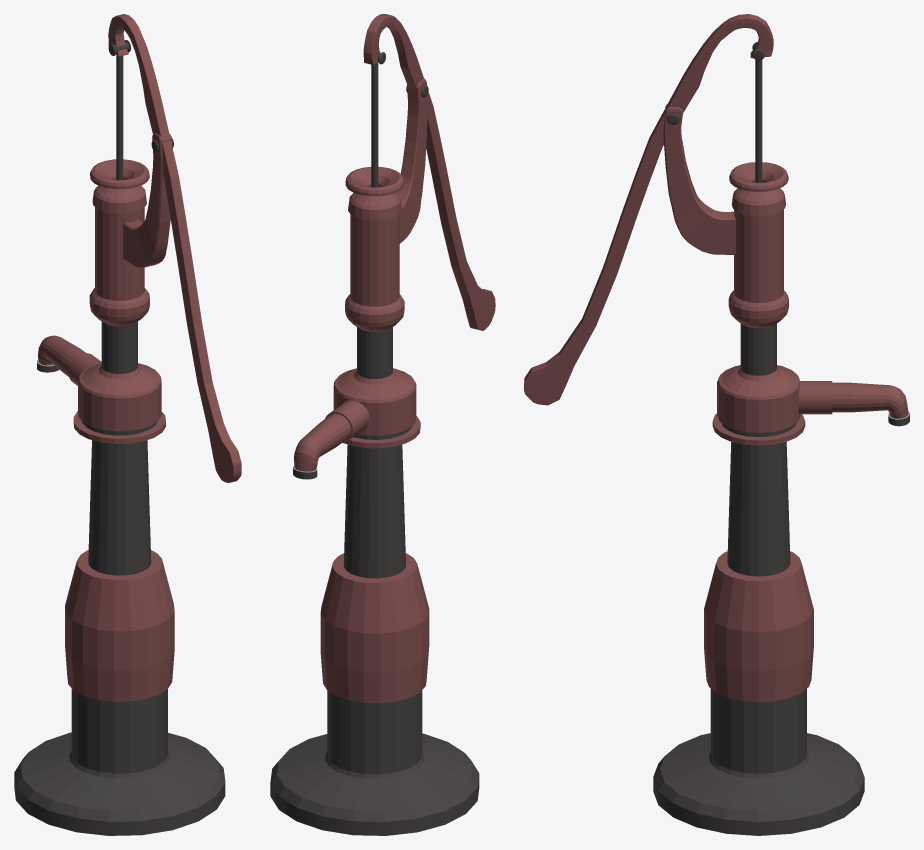
Rendered from WaterPump.fbx.
3 renders of one model, left to right at view 1: azimuth 30°, elevation 25°; view 2: azimuth 150°, elevation 25°; view 3: azimuth 270°, elevation 25°, orthographic.
Visible parts, largest first — view 1: PumpBody, PumpLever, Pump; view 2: PumpBody, PumpLever, Pump; view 3: PumpBody, PumpLever, Pump.
Boxes of the visible parts, bbox=[...] form: PumpBody: bbox=[14, 133, 225, 835]; PumpLever: bbox=[108, 14, 241, 482]; Pump: bbox=[116, 55, 123, 180]; PumpBody: bbox=[270, 78, 479, 835]; PumpLever: bbox=[363, 14, 495, 330]; Pump: bbox=[371, 63, 378, 187]; PumpBody: bbox=[653, 104, 909, 835]; PumpLever: bbox=[524, 14, 773, 405]; Pump: bbox=[755, 60, 762, 182].
Bounding box in the file's own units: 2 × 8.09 × 3.65.
